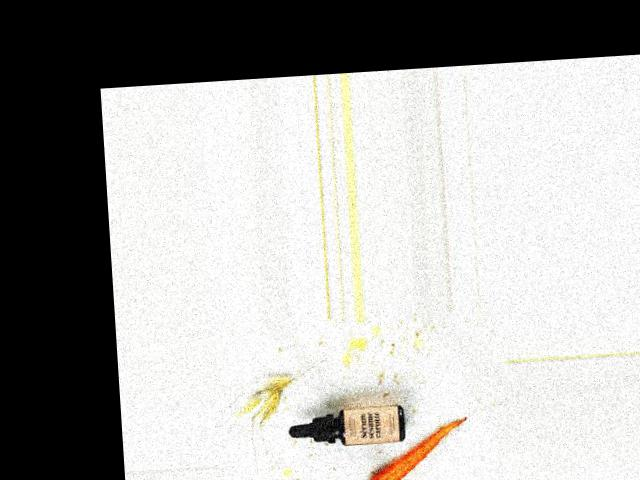carrot: (352, 403, 479, 480)
